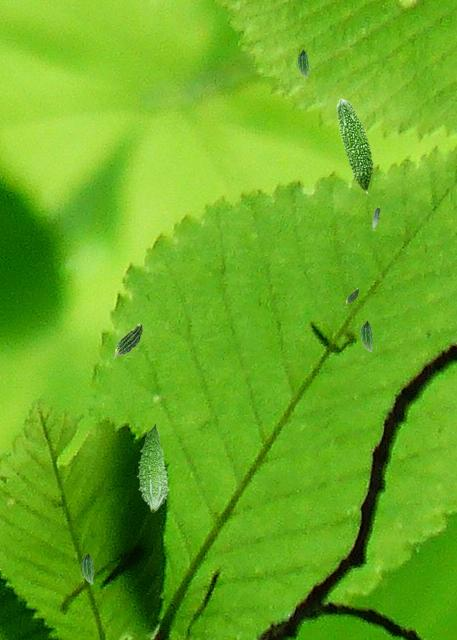ampalaya: (336, 98, 374, 195), (136, 421, 169, 513), (113, 323, 143, 358), (81, 551, 94, 584), (360, 319, 373, 352), (297, 48, 309, 78), (345, 287, 359, 305), (372, 205, 380, 230)
